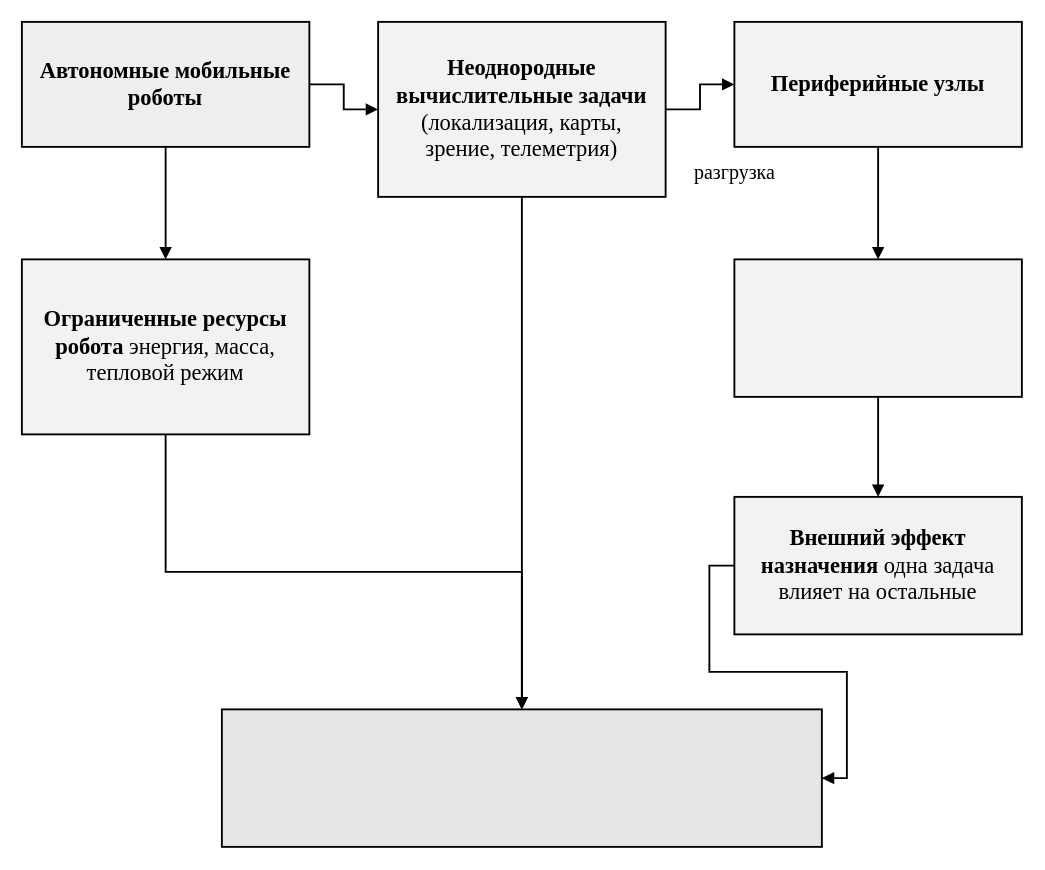
Image size: 1045x870. Some labels were removed from this diagram. Here are the shapes that lost their labels. From the top down, the centre of each, then its label:
At point (877, 327): "Общий дефицитный ресурс очереди, загрузка, задержки".
At point (521, 777): "Требование: формальный механизм распределения + адаптация к динамике".
